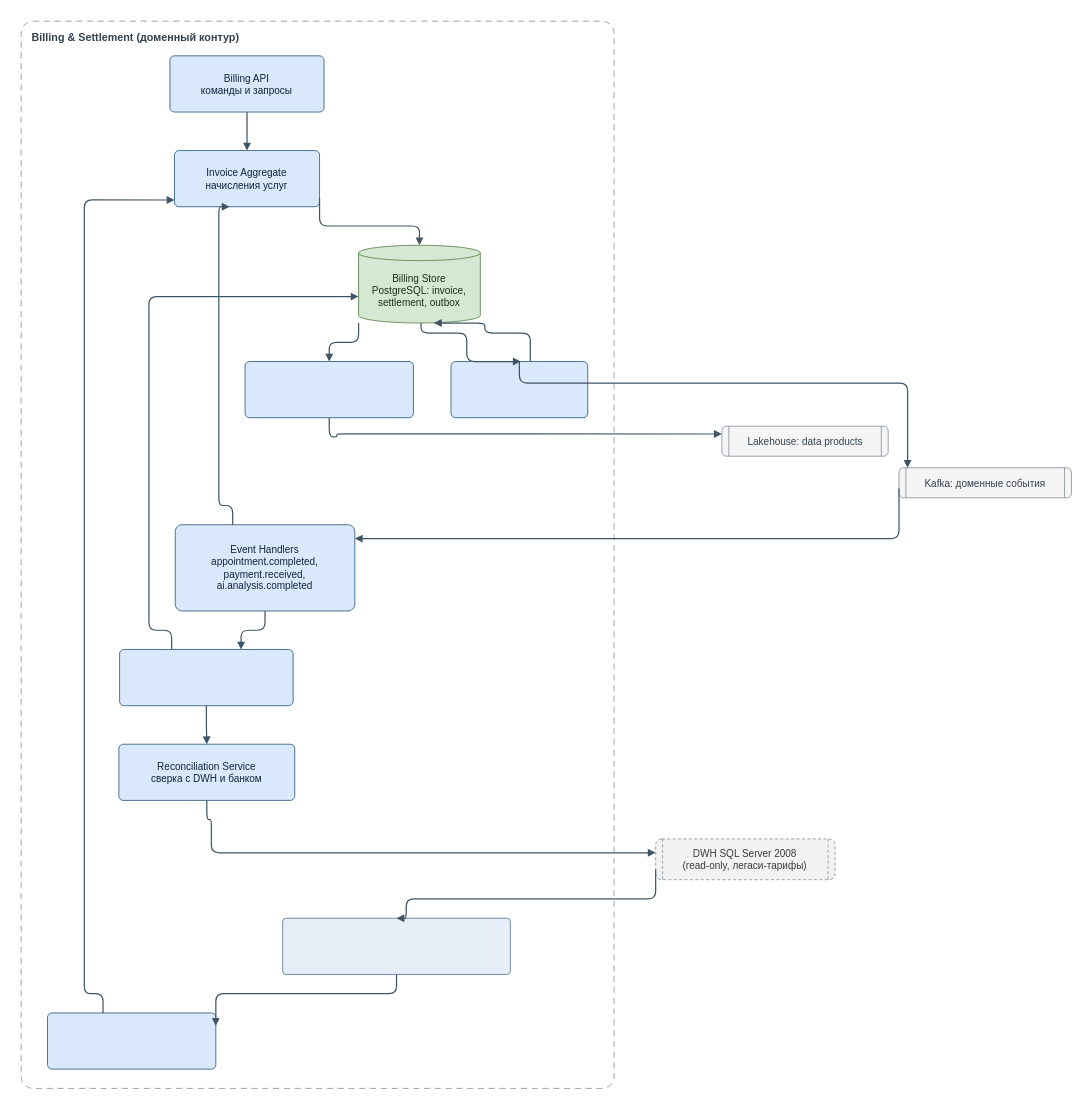
Some shapes in this 1085 by 1102 pixel diagram are drawn without their labels. The shapes that lost their labels are listed below. From the top down, each one's box as (x1, y1, x2, y2) in pixels, then its label:
(244, 361, 413, 418): Data Product Publisher витрины и сводки
(450, 361, 588, 418): Outbox Publisher at-least-once
(119, 649, 293, 706): Settlement Engine закрытия периода
(282, 917, 510, 974): ACL Adapter легаси-тарифы и корректировки
(47, 1012, 216, 1069): Tariff Engine правила тарификации
